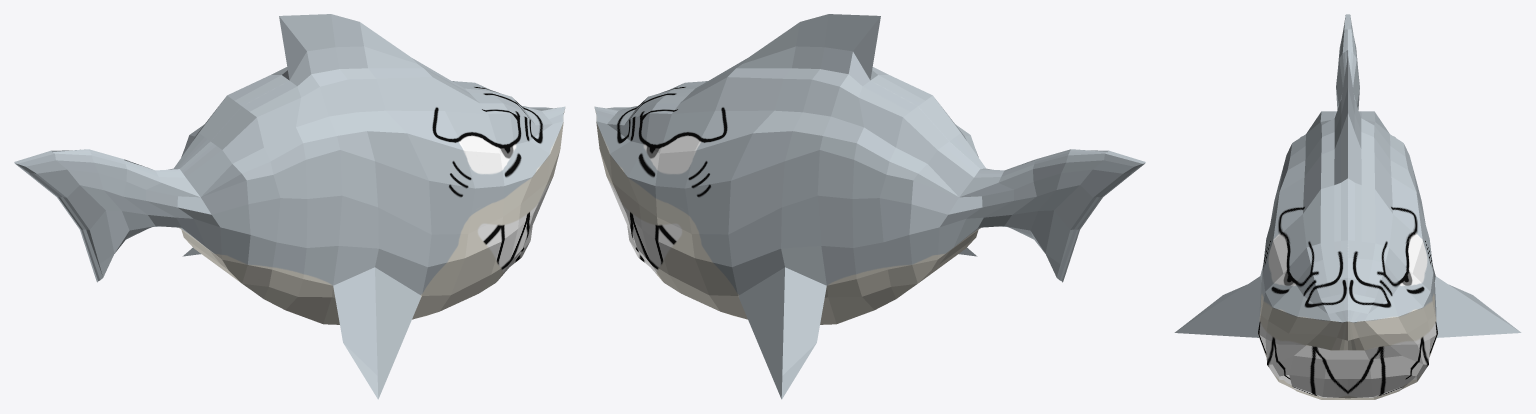
The model's file is Shark.fbx.
3 renders of one model, left to right at view 1: azimuth 30°, elevation 25°; view 2: azimuth 150°, elevation 25°; view 3: azimuth 270°, elevation 25°, orthographic. The views are drawn at different scales.
Parts seen in each view (by area): view 1: Shark; view 2: Shark; view 3: Shark.
Boxes of the visible parts, x1=… form: Shark: x1=14, y1=14, x2=565, y2=399; Shark: x1=594, y1=14, x2=1145, y2=399; Shark: x1=1174, y1=14, x2=1521, y2=399.
Size of the model in its own units: 414 by 225 by 255.
